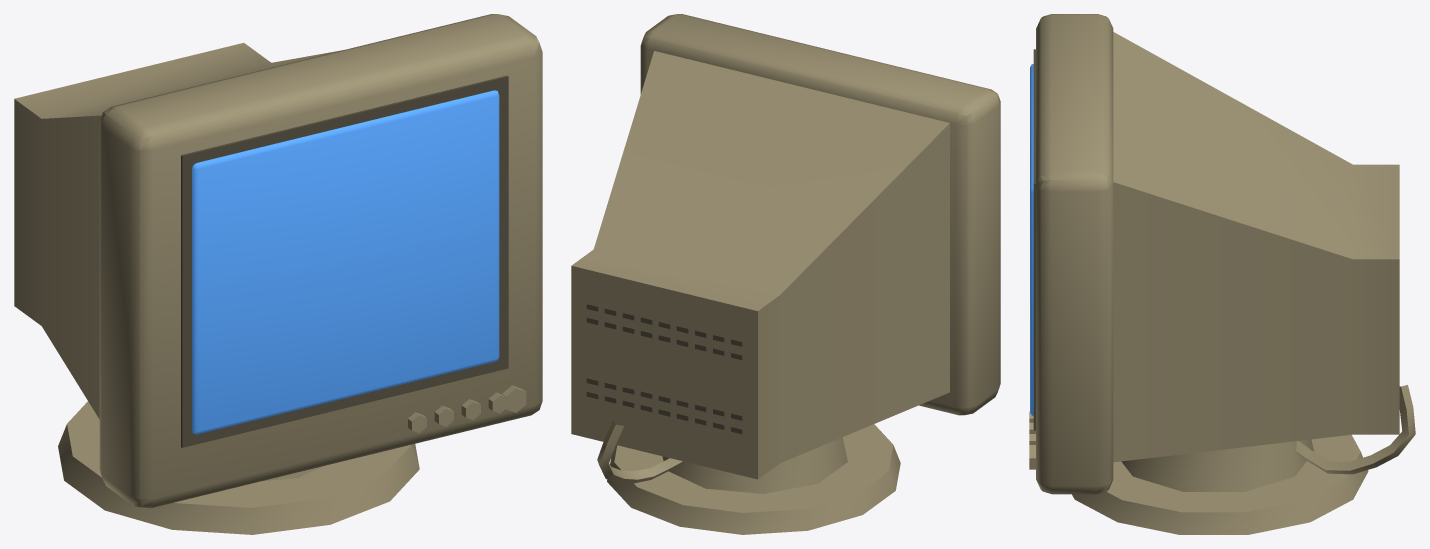
The model's file is MonitorM01.glb.
3 renders of one model, left to right at view 1: azimuth 30°, elevation 25°; view 2: azimuth 150°, elevation 25°; view 3: azimuth 270°, elevation 25°, orthographic. The views are drawn at different scales.
Parts seen in each view (by area): view 1: Body_BeigePlastic, Body_Screen, Body_Vents; view 2: Body_BeigePlastic, Body_Vents; view 3: Body_BeigePlastic, Body_Screen, Body_Vents.
Part boxes in pixels (x1,y1,x2,y2): Body_BeigePlastic: (14, 14, 542, 534); Body_Screen: (192, 90, 499, 434); Body_Vents: (181, 75, 508, 447); Body_BeigePlastic: (571, 14, 1000, 534); Body_Vents: (586, 304, 742, 434); Body_BeigePlastic: (1029, 14, 1415, 534); Body_Screen: (1030, 64, 1033, 415); Body_Vents: (1033, 49, 1035, 430).
Bounding box in the file's own units: 2.6 × 2.7 × 2.5.
